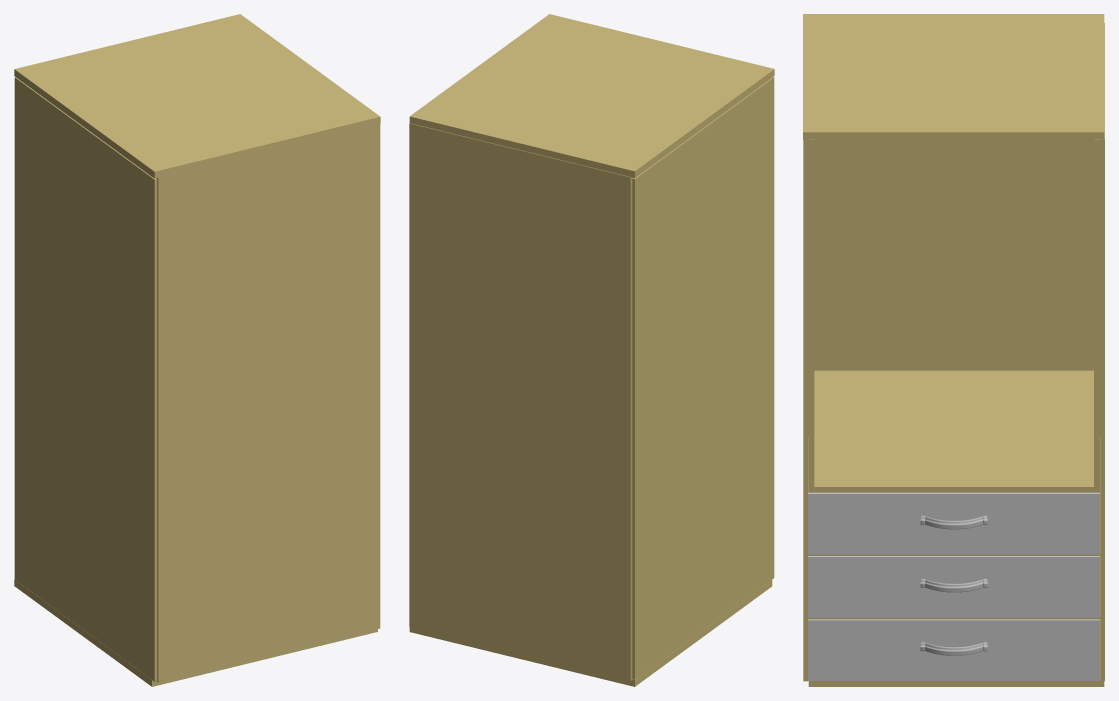
File: wrldfurfre.fbx
3 views of the same model, side by side, from view 1: azimuth 30°, elevation 25°; view 2: azimuth 150°, elevation 25°; view 3: azimuth 270°, elevation 25° (orthographic). The views are drawn at different scales.
Parts seen in each view (by area): view 1: Cube.001, Cube.006, Cube; view 2: Cube.001, Cube.006, Cube; view 3: Cube.006, Cube, Cube.004, Cube.002, Cube.027, Cube.026, Cube.001, Cube.003, Cube.023, Cube.022, Cube.025, Cube.019 (+1 smaller).
Boxes of the visible parts, x1,y1,x2,y2 form: Cube.001: (156,124,380,682); Cube.006: (14,77,157,681); Cube: (14,14,380,686); Cube.001: (409,123,632,680); Cube.006: (632,77,774,679); Cube: (409,14,774,686); Cube.006: (808,139,1100,436); Cube: (803,14,1104,686); Cube.004: (814,370,1093,492); Cube.002: (808,492,1099,554); Cube.027: (808,619,1099,680); Cube.026: (808,556,1099,617); Cube.001: (803,23,1104,681); Cube.003: (808,139,1099,492); Cube.023: (808,556,1100,619); Cube.022: (808,437,1100,555); Cube.025: (925,579,983,592); Cube.019: (925,516,983,529).
Bounding box in the file's own units: 400 × 824 × 407.
